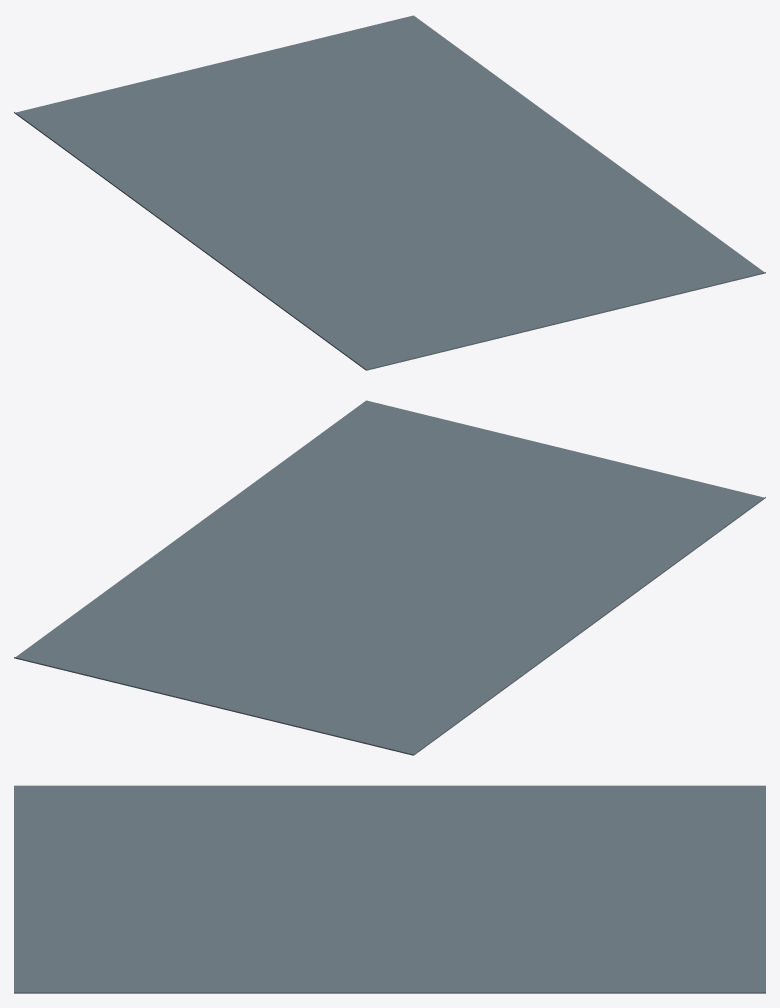
File: tt_rink_surface_panel_end.glb
3 views of the same model, one above another, from view 1: azimuth 30°, elevation 25°; view 2: azimuth 150°, elevation 25°; view 3: azimuth 270°, elevation 25° (orthographic). The views are drawn at different scales.
Parts seen in each view (by area): view 1: Rubber_Surface; view 2: Rubber_Surface; view 3: Rubber_Surface.
Boxes of the visible parts, bbox=[...] form: Rubber_Surface: bbox=[14, 15, 765, 370]; Rubber_Surface: bbox=[14, 400, 765, 755]; Rubber_Surface: bbox=[14, 785, 765, 993].
Size of what is drawn, in the model's own units: 3.93 by 0.012 by 6.
